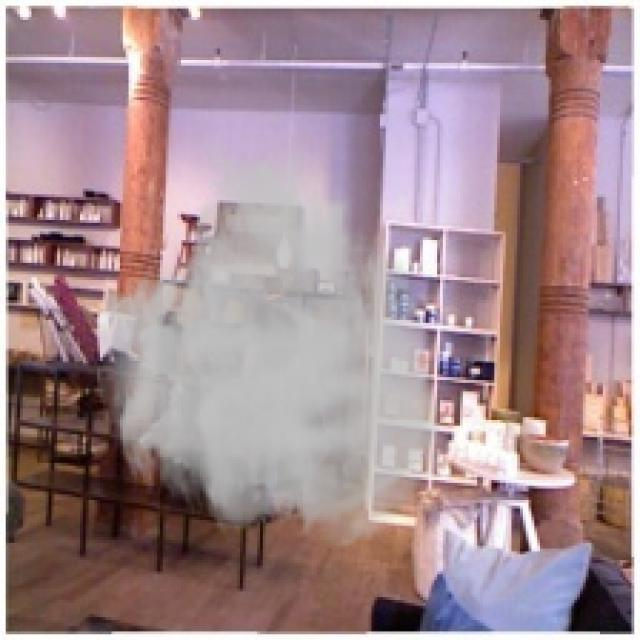Smoke: (91, 132, 448, 552)
